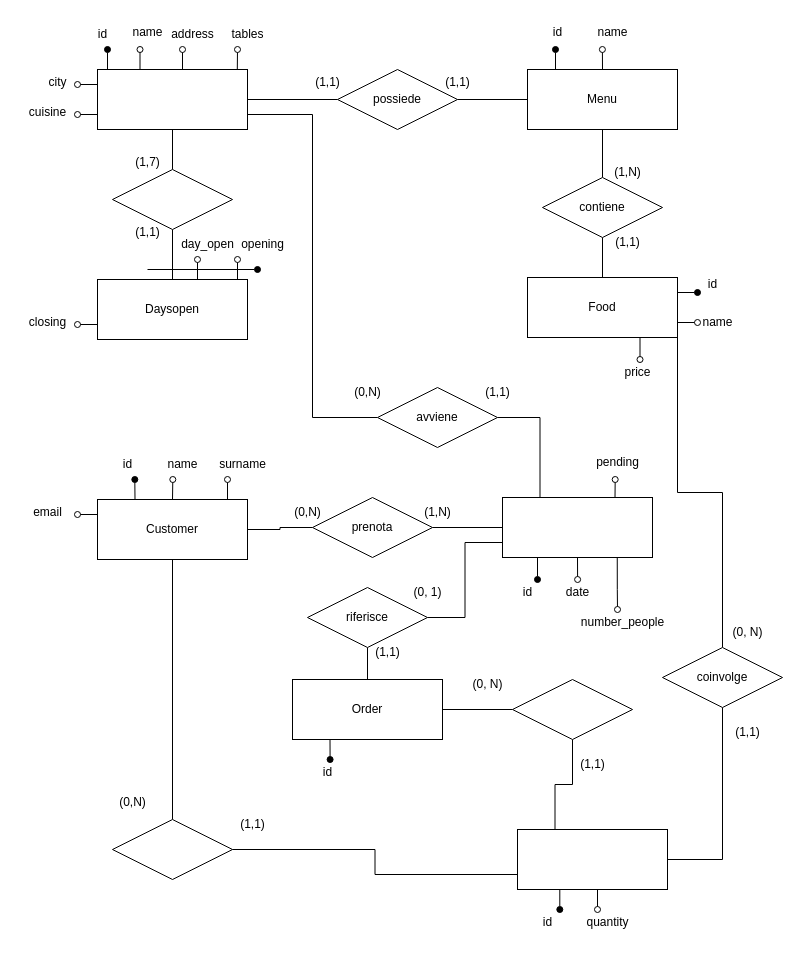
Image size: 800x954. Some labels were removed from this diagram. The centre of each missing label's shape, as x and y in pixels:
"apre" goes at pixel 172 199.
"effettua" goes at pixel 172 849.
"OrderDetail" goes at pixel 592 859.
"Reservation" goes at pixel 577 527.
"Restaurant" goes at pixel 172 99.
"riguarda" goes at pixel 572 709.
